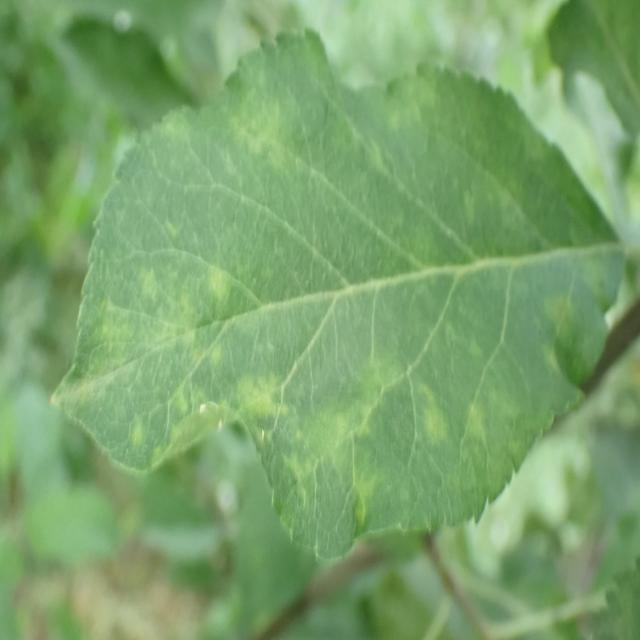scab: (82, 74, 585, 513)
